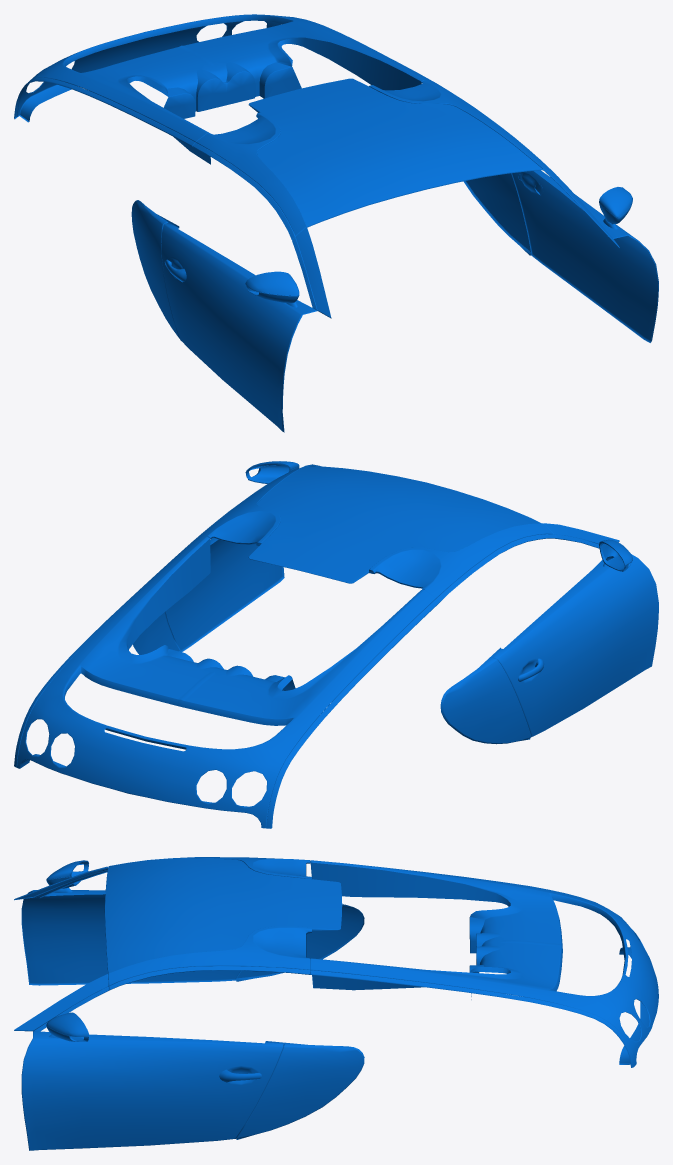
Rendered from Veyron_Chassis_Duco.fbx.
3 renders of one model, top to bottom at view 1: azimuth 30°, elevation 25°; view 2: azimuth 150°, elevation 25°; view 3: azimuth 270°, elevation 25°, orthographic. The views are drawn at different scales.
Parts seen in each view (by area): view 1: Veyron_Chassis_Duco; view 2: Veyron_Chassis_Duco; view 3: Veyron_Chassis_Duco.
Part boxes in pixels (x1,y1,x2,y2): Veyron_Chassis_Duco: (14,14,658,432); Veyron_Chassis_Duco: (14,461,658,828); Veyron_Chassis_Duco: (14,857,658,1150).
Bounding box in the file's own units: 123 × 35.74 × 78.04.
